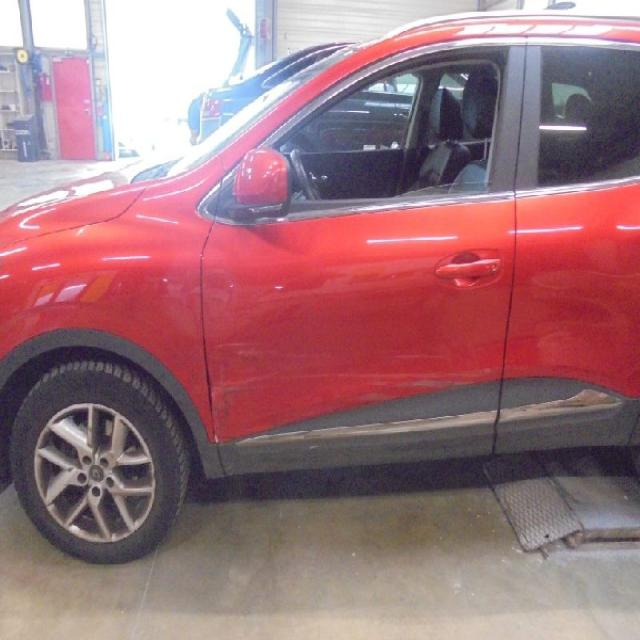porte-avant: (224, 35, 527, 451)
